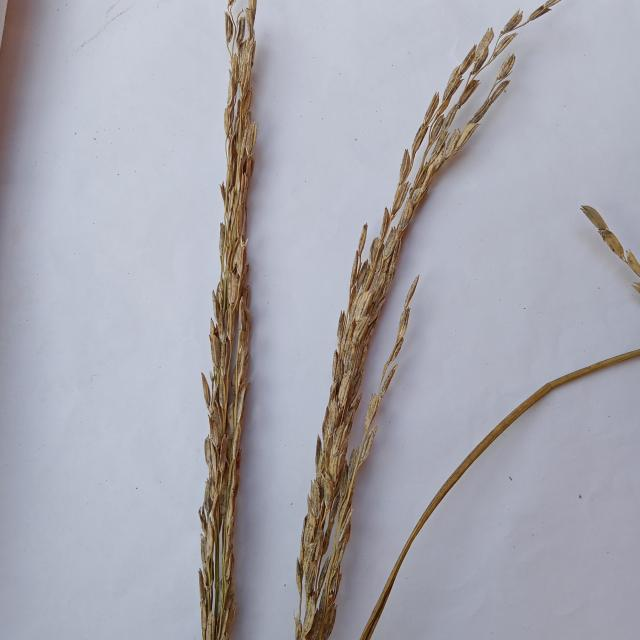Neck_Blast: (296, 3, 543, 640), (190, 10, 262, 640)
